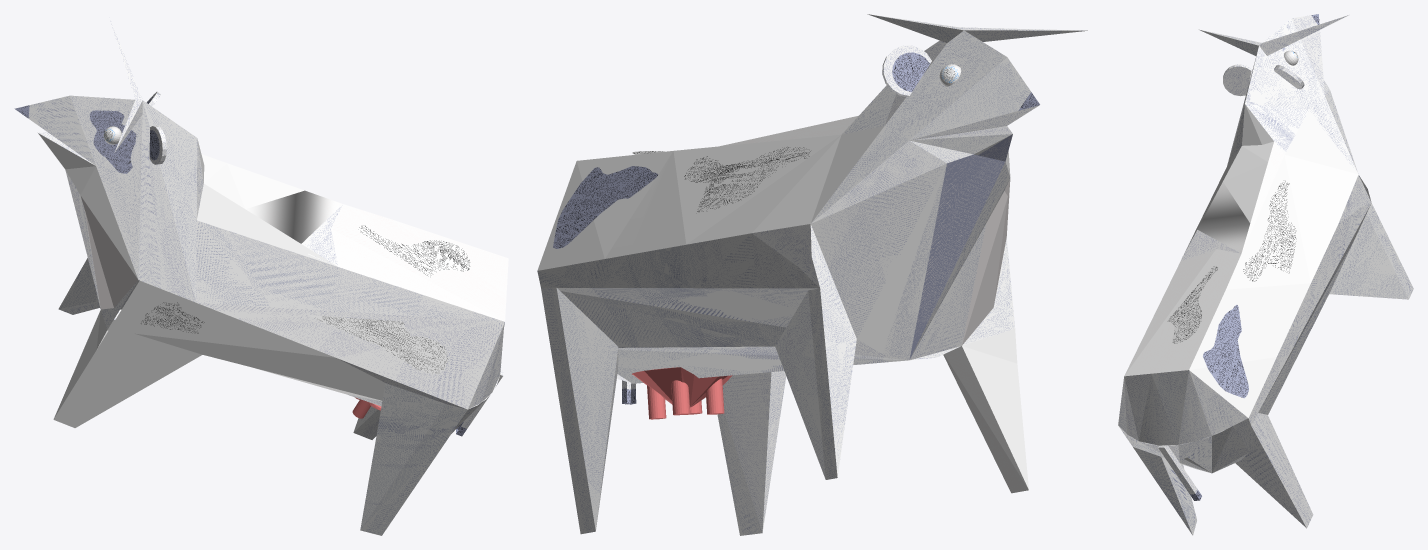
The model's file is krowa.FBX.
The picture shows the model from 3 angles, left to right: view 1: azimuth 30°, elevation 25°; view 2: azimuth 150°, elevation 25°; view 3: azimuth 270°, elevation 25°; orthographic projection. The views are drawn at different scales.
Parts seen in each view (by area): view 1: Mesh6; view 2: Mesh6; view 3: Mesh6.
Boxes of the visible parts, <box> form: Mesh6: <box>14,16,508,535</box>; Mesh6: <box>537,14,1087,535</box>; Mesh6: <box>1118,14,1413,535</box>.
Bounding box in the file's own units: 41.01 × 46.7 × 28.31.
